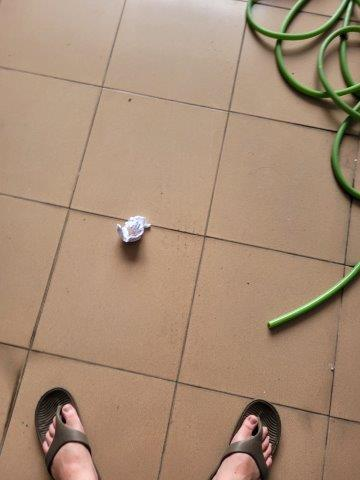kertas: (113, 215, 150, 246)
